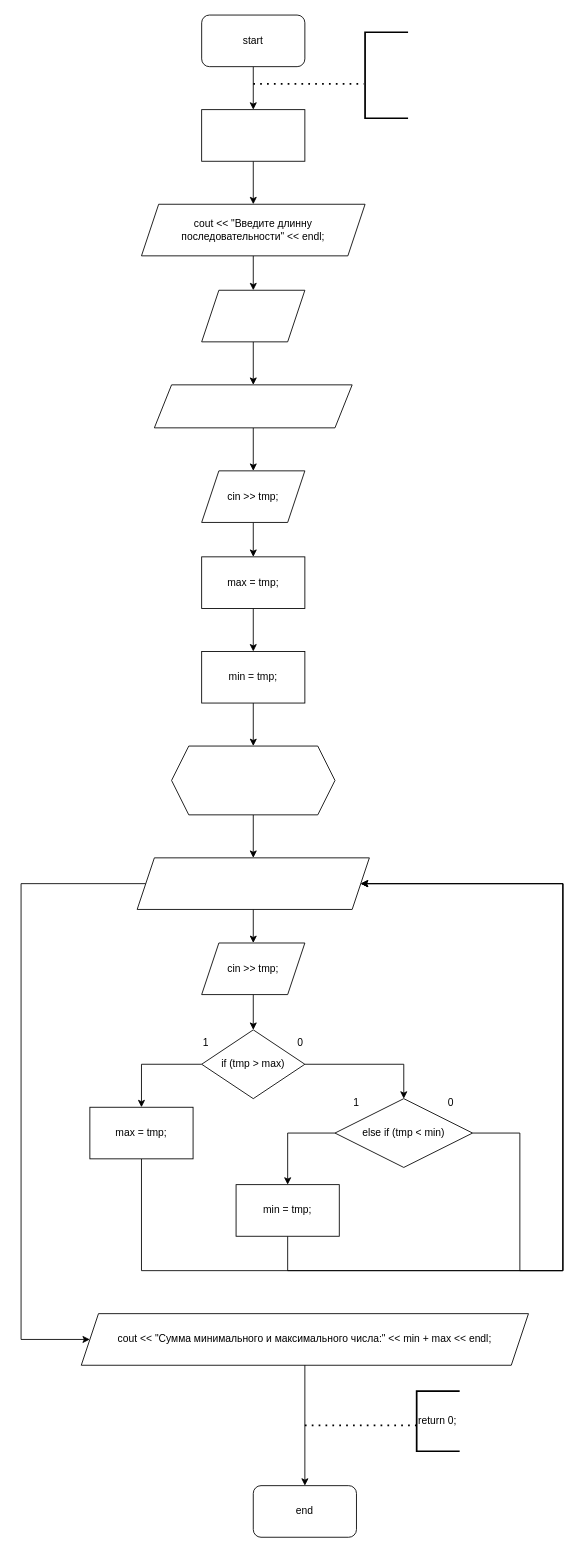
Some shapes in this 585 by 1552 pixel diagram are drawn without their labels. The shapes that lost their labels are listed below. From the top down, each one's box as (x1, y1, x2, y2) in pixels, then its label:
(364, 31, 408, 119): #include <iostream> using namespace std; int main ()
(201, 109, 305, 161): int n, tmp, max, min;
(201, 289, 305, 342): cin >> n;
(154, 384, 352, 428): cout << "Введите первое число";
(171, 745, 335, 815): for (int i = 2; i <= n; i++)
(136, 857, 369, 909): cout << "Введите следующее число";
